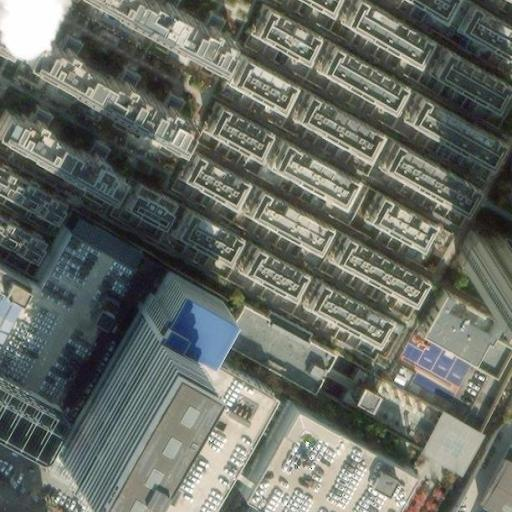building: (102, 345, 265, 512), (49, 316, 185, 499), (233, 398, 409, 512), (16, 34, 185, 145), (207, 292, 322, 384), (413, 280, 511, 365), (103, 0, 225, 62), (372, 137, 472, 210), (401, 96, 498, 167), (325, 230, 421, 301), (132, 267, 213, 346), (422, 44, 512, 114), (313, 46, 402, 113), (291, 92, 378, 158), (300, 277, 387, 342), (265, 139, 351, 203), (343, 3, 427, 66), (239, 185, 323, 248), (411, 404, 481, 471), (0, 166, 72, 226), (0, 365, 57, 437), (361, 189, 428, 245), (250, 11, 317, 66), (453, 227, 512, 289), (233, 240, 300, 294), (226, 57, 292, 110), (451, 2, 512, 58), (168, 205, 230, 258), (200, 105, 263, 155), (0, 217, 57, 270), (177, 153, 236, 202), (118, 179, 170, 224), (470, 458, 512, 512), (344, 382, 378, 413)
